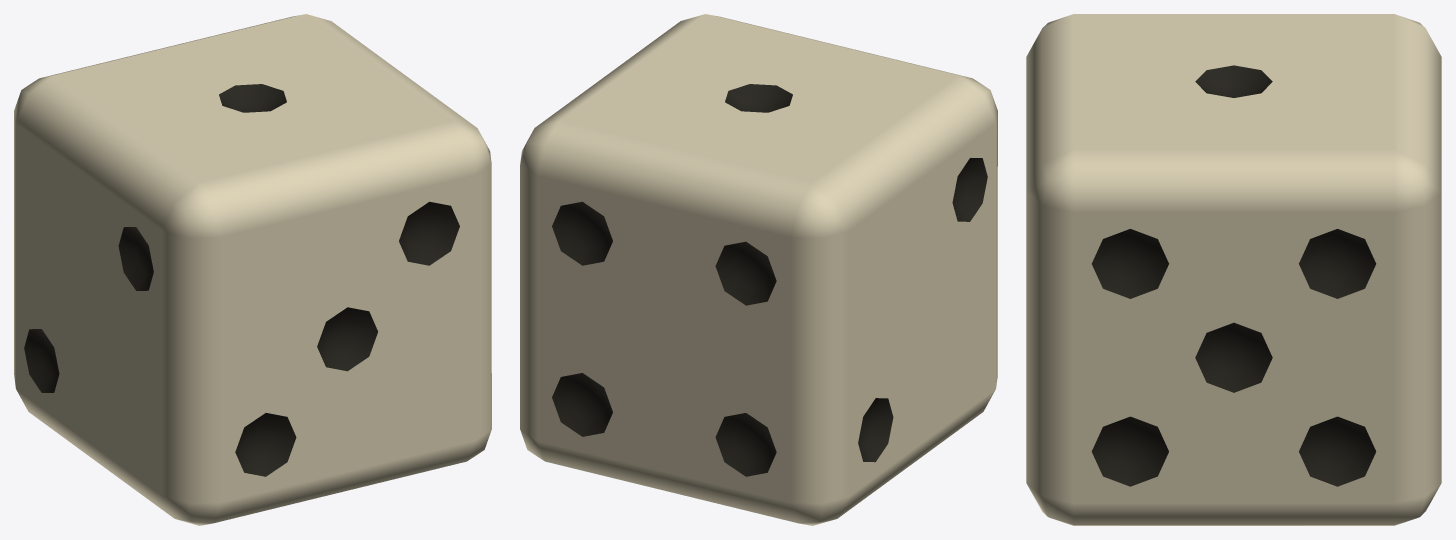
Rendered from dice.glb.
The picture shows the model from 3 angles, left to right: view 1: azimuth 30°, elevation 25°; view 2: azimuth 150°, elevation 25°; view 3: azimuth 270°, elevation 25°; orthographic projection. The views are drawn at different scales.
Parts seen in each view (by area): view 1: DiceA_LOD000; view 2: DiceA_LOD000; view 3: DiceA_LOD000.
Boxes of the visible parts, left/top/right/bottom form: DiceA_LOD000: left=14, top=14, right=491, bottom=525; DiceA_LOD000: left=520, top=14, right=997, bottom=525; DiceA_LOD000: left=1026, top=14, right=1441, bottom=525.
Bounding box in the file's own units: 1 × 1 × 1.
